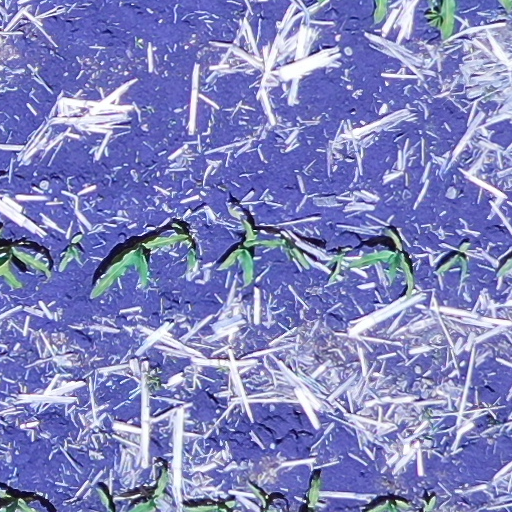planta: (93, 232, 192, 297), (345, 229, 418, 298), (220, 220, 288, 283), (436, 243, 468, 276), (60, 234, 80, 268)
